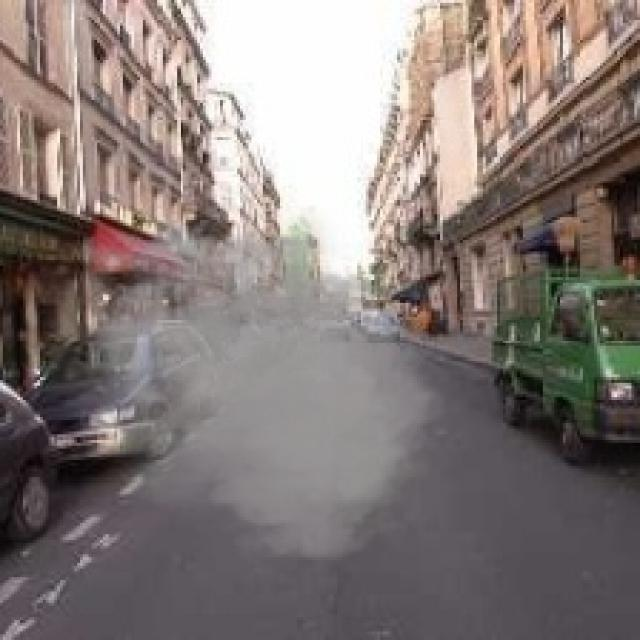Smoke: (54, 206, 457, 572)
